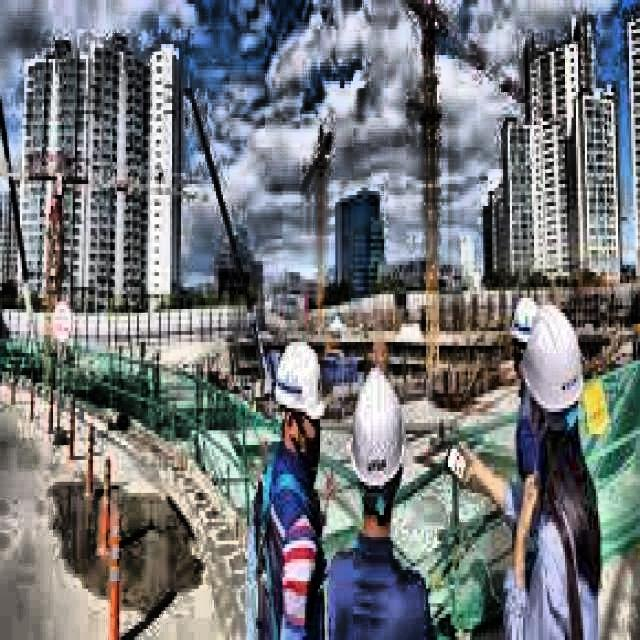bull_dozer/loader/grader: (406, 0, 558, 401), (0, 134, 218, 372), (0, 97, 38, 341), (300, 114, 338, 330)
person: (446, 302, 604, 640), (327, 362, 436, 640), (250, 332, 334, 640), (509, 292, 576, 494)
